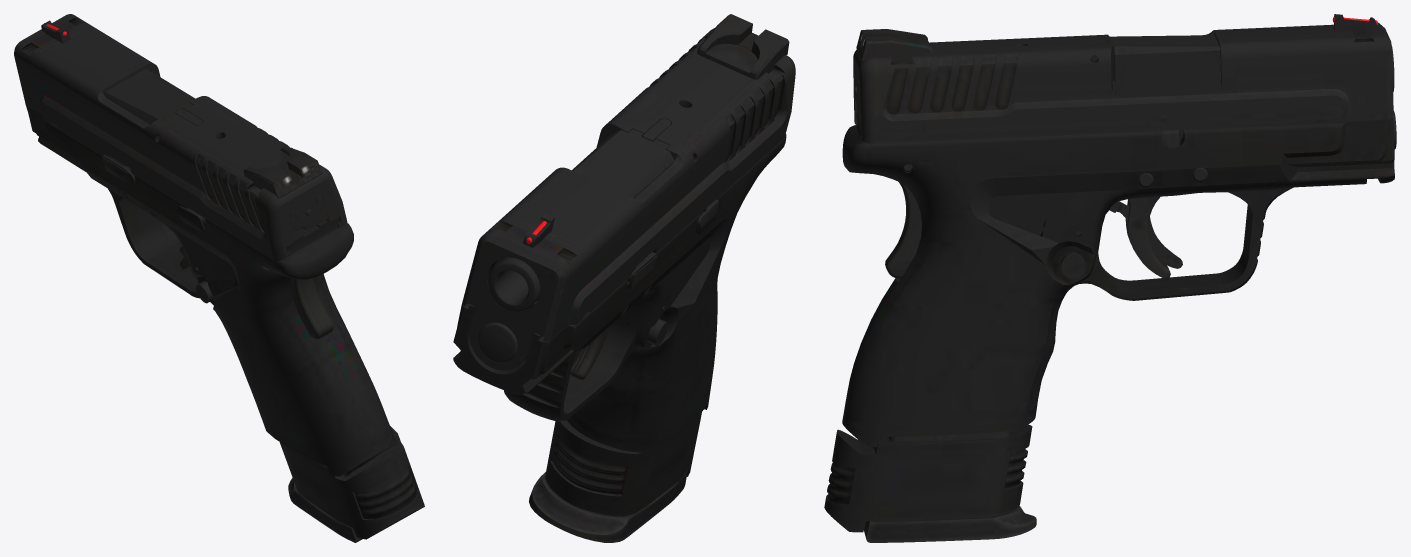
Rendered from pistol.glb.
3 renders of one model, left to right at view 1: azimuth 30°, elevation 25°; view 2: azimuth 150°, elevation 25°; view 3: azimuth 270°, elevation 25°, orthographic. The views are drawn at different scales.
Visible parts, largest first — view 1: Object_91, Object_93, Object_95; view 2: Object_93, Object_91, Object_95; view 3: Object_91, Object_93, Object_95.
Part boxes in pixels (x1=…): Object_91: x1=25, y1=69, x2=396, y2=476; Object_93: x1=14, y1=14, x2=347, y2=261; Object_95: x1=279, y1=426, x2=424, y2=542; Object_93: x1=462, y1=14, x2=795, y2=370; Object_91: x1=453, y1=129, x2=786, y2=452; Object_95: x1=529, y1=412, x2=701, y2=542; Object_91: x1=842, y1=35, x2=1396, y2=447; Object_93: x1=853, y1=14, x2=1393, y2=143; Object_95: x1=824, y1=219, x2=1045, y2=542.
Size of the model in its own units: 0.0937 by 0.1825 by 0.2045.
1 material, 1 textured.
